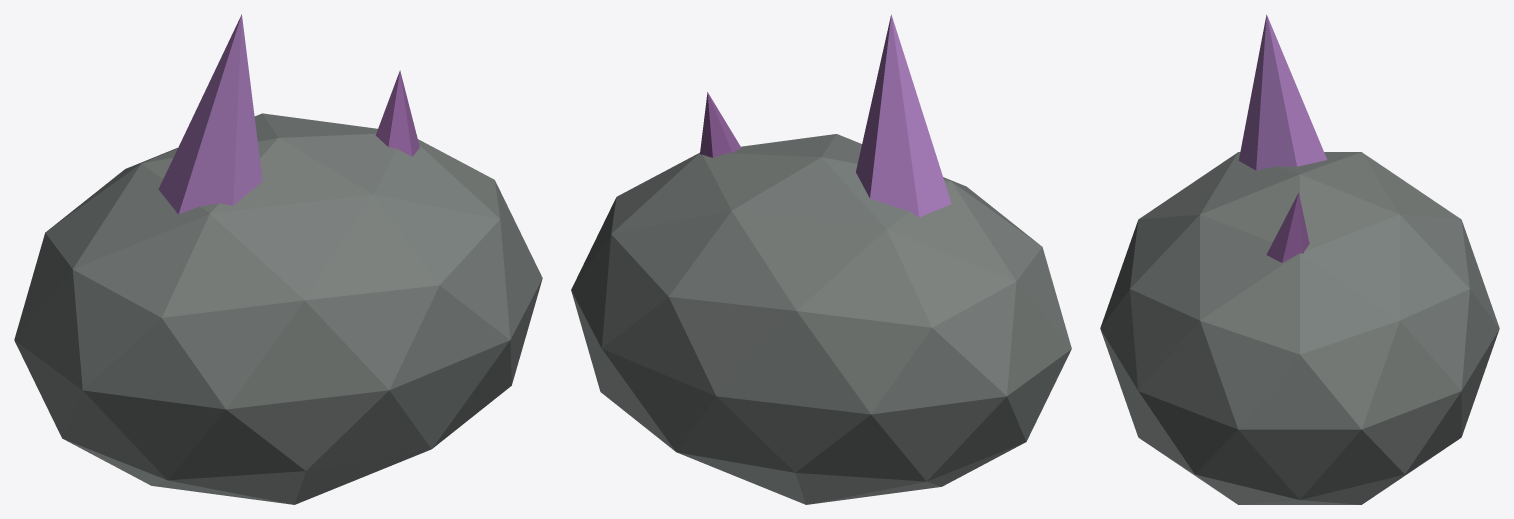
The model's file is economy_source_gem_seam_v01.glb.
3 views of the same model, side by side, from view 1: azimuth 30°, elevation 25°; view 2: azimuth 150°, elevation 25°; view 3: azimuth 270°, elevation 25° (orthographic). The views are drawn at different scales.
Visible parts, largest first — view 1: GEO_GemHost, GEO_GemCrystalTall, GEO_GemCrystalShort; view 2: GEO_GemHost, GEO_GemCrystalTall, GEO_GemCrystalShort; view 3: GEO_GemHost, GEO_GemCrystalTall, GEO_GemCrystalShort.
Part boxes in pixels (x1=…): GEO_GemHost: x1=14, y1=113, x2=542, y2=504; GEO_GemCrystalTall: x1=158, y1=14, x2=262, y2=214; GEO_GemCrystalShort: x1=375, y1=70, x2=419, y2=156; GEO_GemHost: x1=571, y1=134, x2=1071, y2=504; GEO_GemCrystalTall: x1=856, y1=14, x2=951, y2=217; GEO_GemCrystalShort: x1=700, y1=92, x2=741, y2=157; GEO_GemHost: x1=1100, y1=152, x2=1499, y2=504; GEO_GemCrystalTall: x1=1238, y1=14, x2=1327, y2=170; GEO_GemCrystalShort: x1=1266, y1=193, x2=1309, y2=262.
Size of the model in its own units: 1.29 by 1.33 by 1.08.
